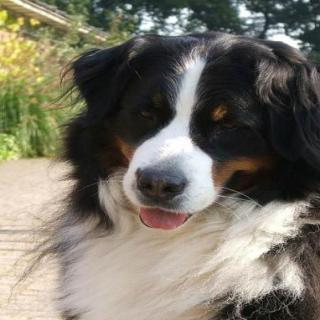dog: (55, 27, 320, 240)
nose: (130, 156, 189, 206)
